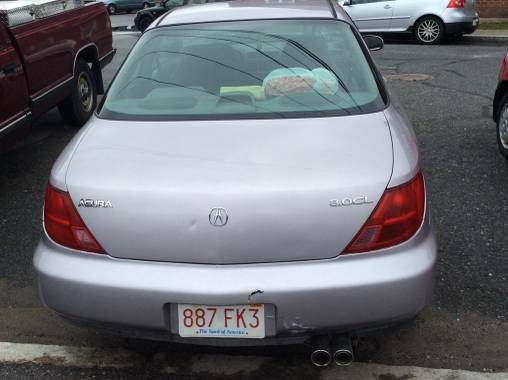acura: (28, 1, 459, 357)
